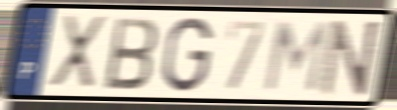7: (223, 18, 267, 95)
B: (102, 15, 161, 92)
G: (159, 15, 215, 95)
M: (260, 19, 332, 96)
N: (318, 17, 384, 98)
X: (45, 12, 109, 93)
